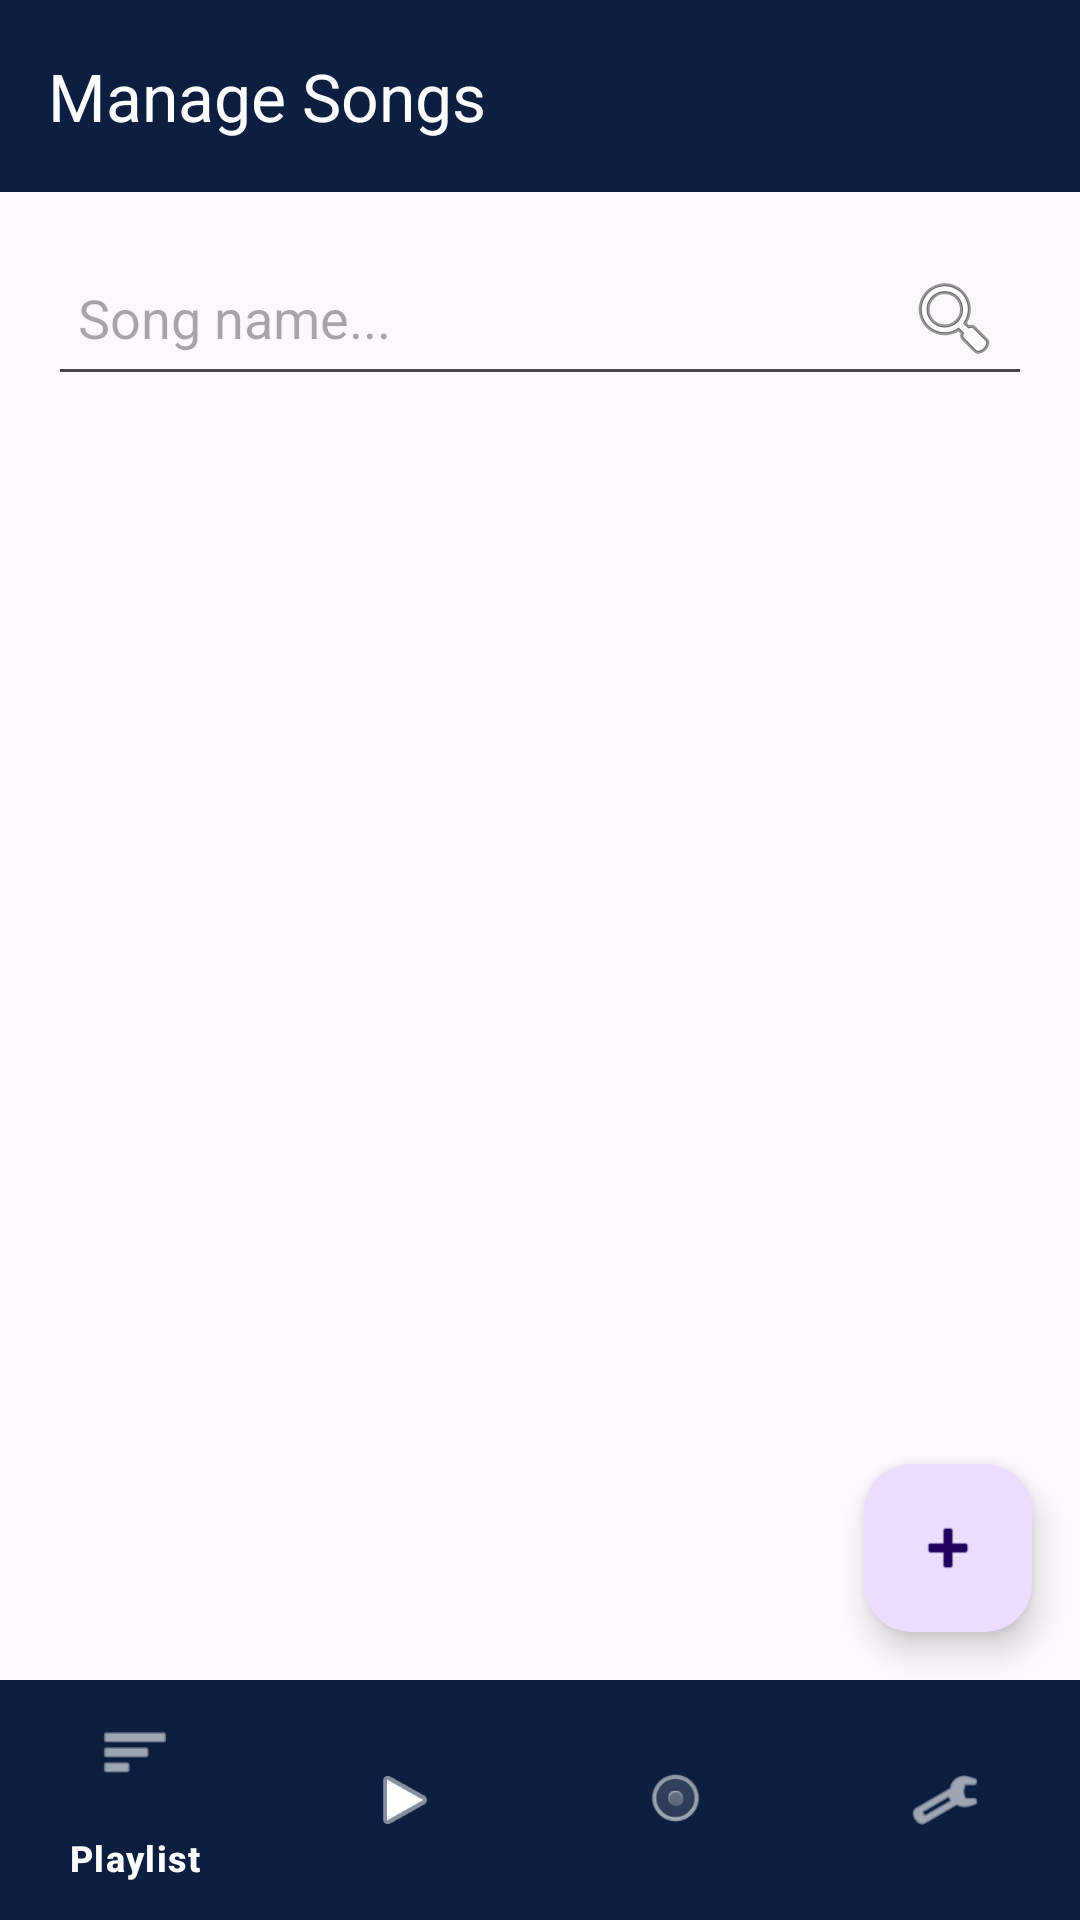

Icon bounding boxes for this 1080 × 1920 phone screenshot, format [x1, y1, x2, y2]:
add: [864, 1464, 1032, 1632]
